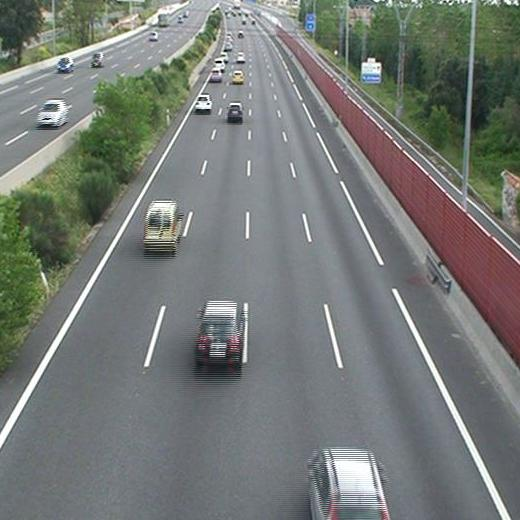car: (307, 450, 388, 520), (195, 301, 240, 360), (227, 103, 243, 119), (195, 95, 212, 110), (232, 71, 245, 83), (210, 69, 222, 81), (213, 58, 225, 69), (235, 52, 245, 62)
van: (144, 201, 179, 250)
